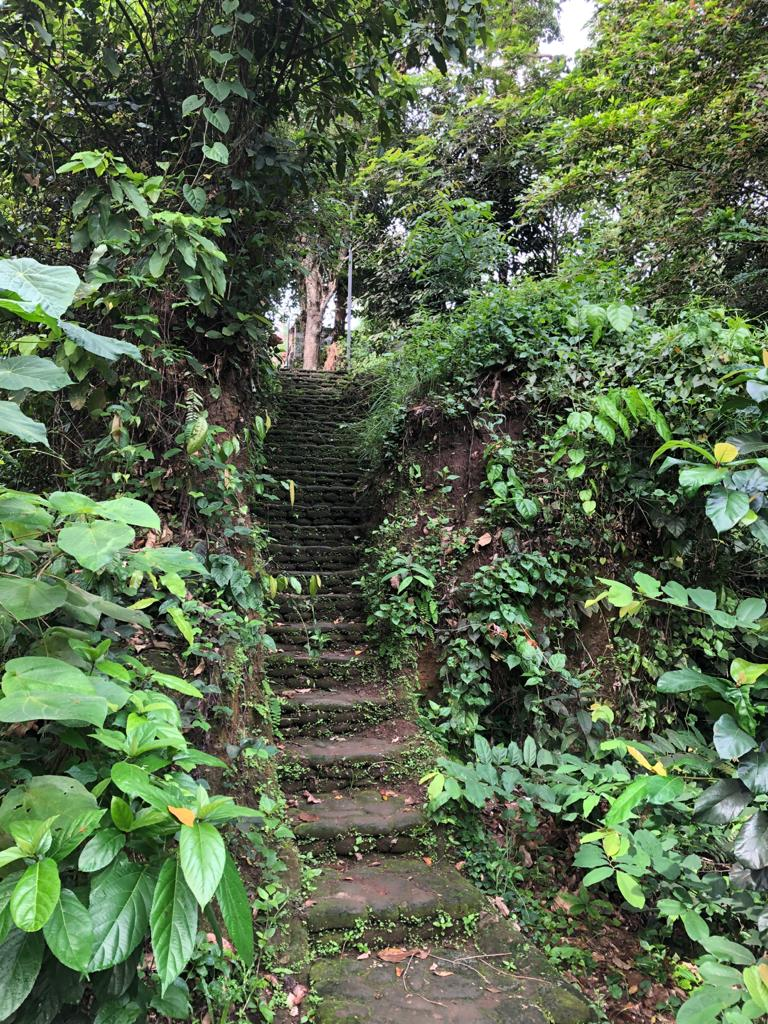upstairs: (271, 715, 468, 1006)
